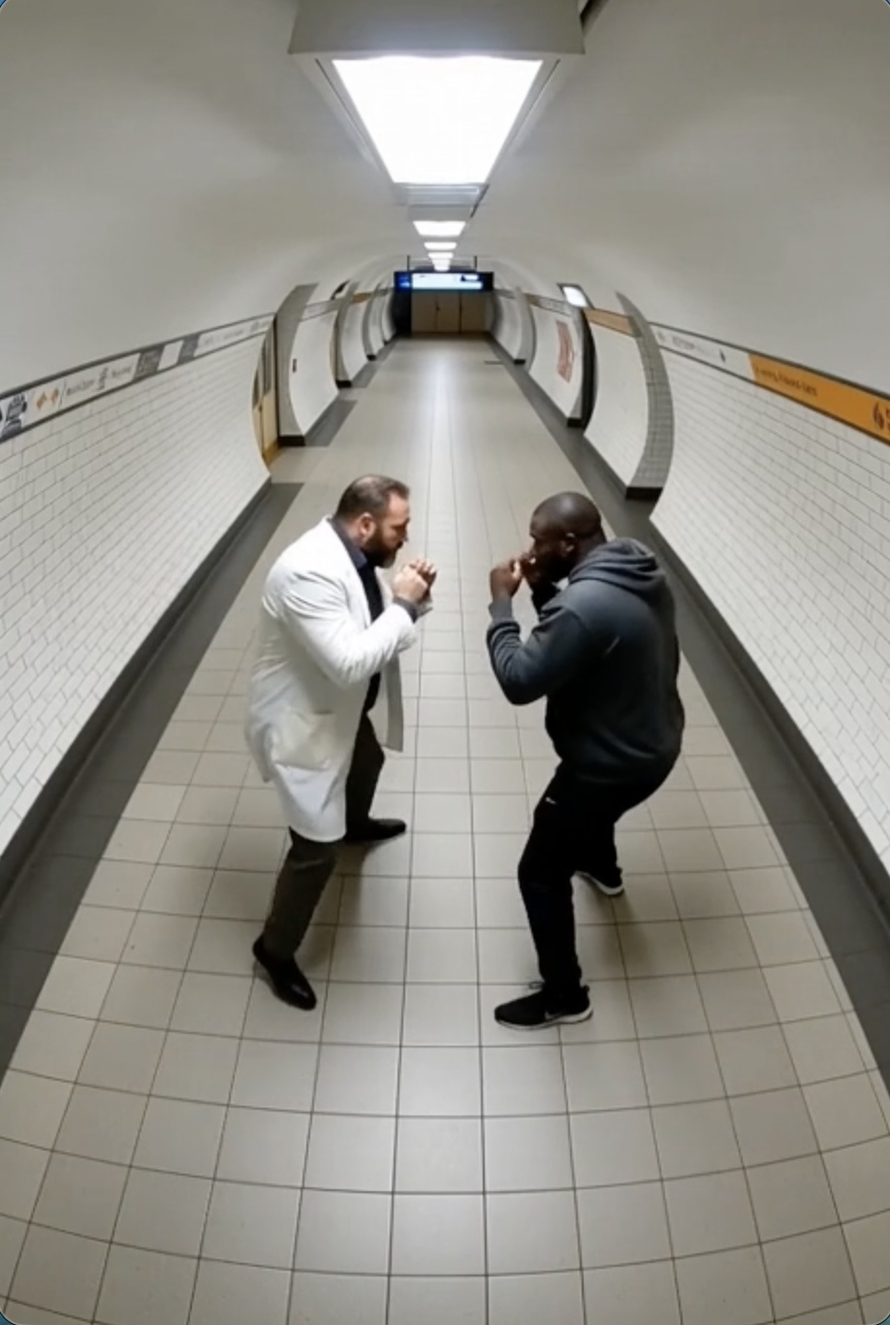Assault: (243, 474, 438, 1011)
Fighting: (483, 491, 687, 1030)
